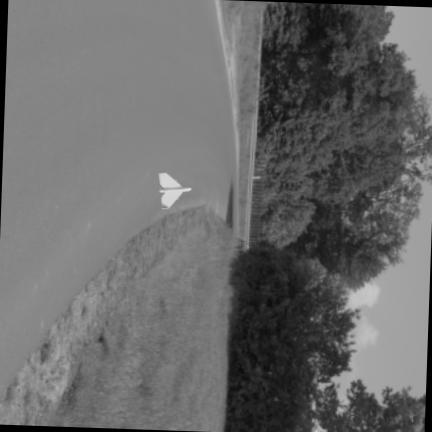Shahed: (158, 174, 190, 209)
